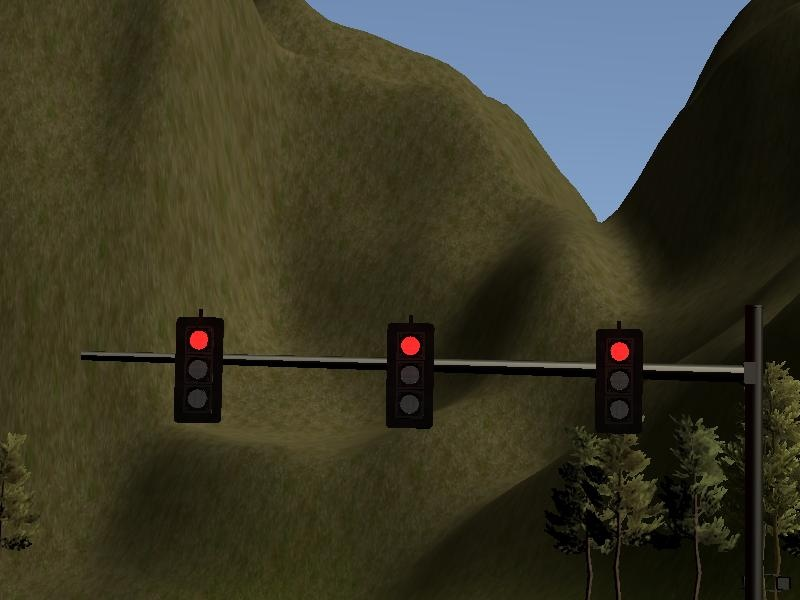red: (172, 321, 217, 424), (388, 321, 430, 429), (597, 330, 641, 432)
